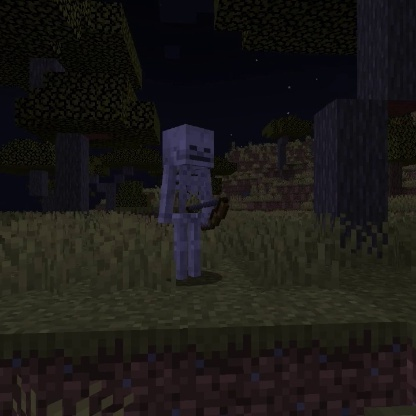skeleton: (153, 121, 232, 285)
